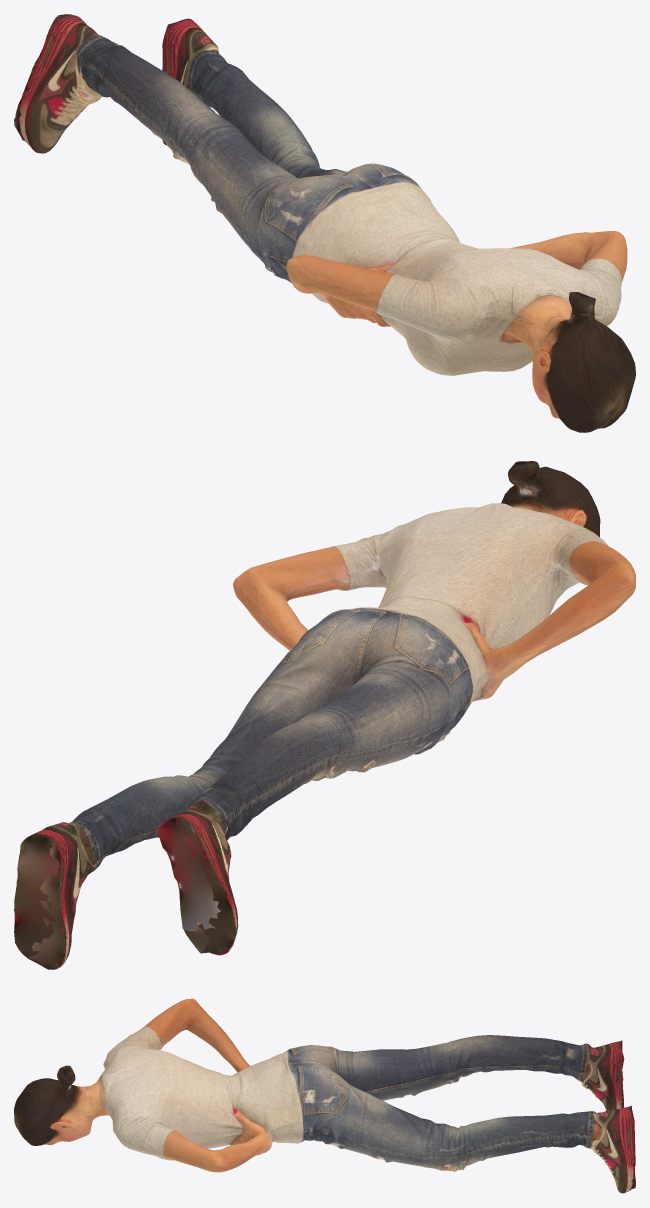
Rendered from sketchfab-human-scan.glb.
3 views of the same model, one above another, from view 1: azimuth 30°, elevation 25°; view 2: azimuth 150°, elevation 25°; view 3: azimuth 270°, elevation 25° (orthographic). The views are drawn at different scales.
Visible parts, largest first — view 1: Object_6, Object_5, Object_2, Object_3, Object_4; view 2: Object_6, Object_4, Object_3, Object_5, Object_2; view 3: Object_2, Object_6, Object_4, Object_3, Object_5.
Boxes of the visible parts, <box> form: Object_6: <box>14,14,635,410</box>; Object_5: <box>81,19,629,432</box>; Object_2: <box>50,16,583,370</box>; Object_3: <box>51,14,627,375</box>; Object_4: <box>73,37,589,341</box>; Object_6: <box>14,466,571,960</box>; Object_4: <box>59,461,631,967</box>; Object_3: <box>14,515,635,956</box>; Object_5: <box>28,461,600,969</box>; Object_2: <box>30,503,633,902</box>; Object_2: <box>100,999,632,1192</box>; Object_6: <box>15,1043,635,1175</box>; Object_4: <box>50,998,620,1191</box>; Object_3: <box>99,1035,635,1191</box>; Object_5: <box>14,1047,633,1193</box>.
Size of the model in its own units: 3.09 by 1.58 by 7.07.
Materials: 5 (5 with a texture image).
